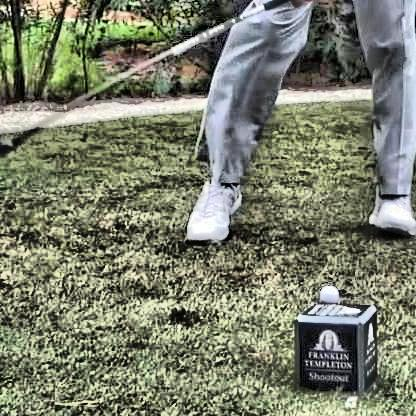golfball: (314, 280, 339, 302)
